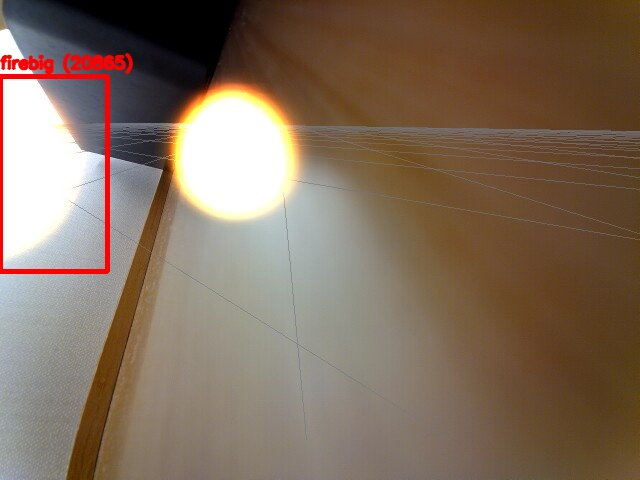firebig: (0, 76, 107, 271)
